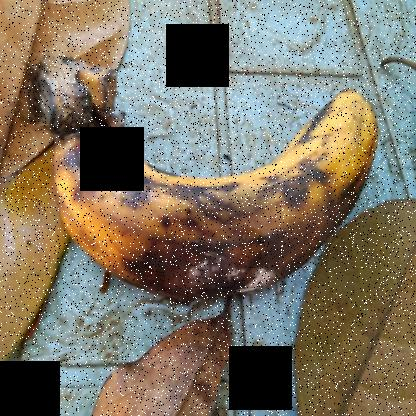rotten: (51, 67, 386, 315)
